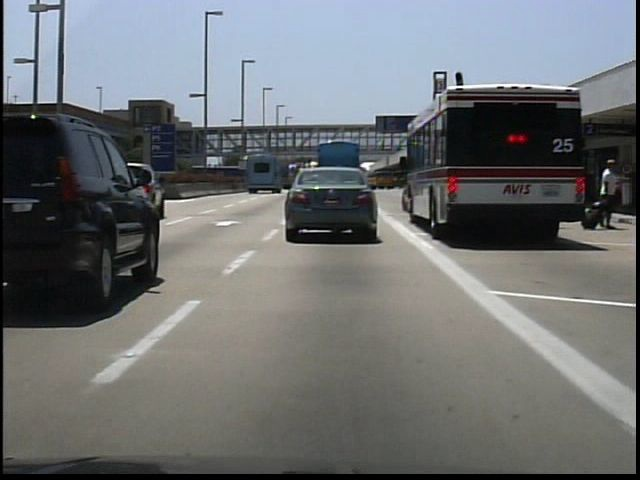person: (590, 156, 618, 233), (378, 137, 391, 157)
